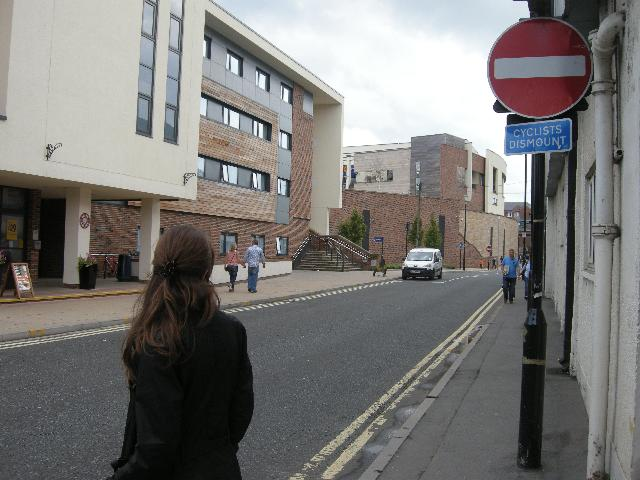B2: (484, 15, 596, 120)
